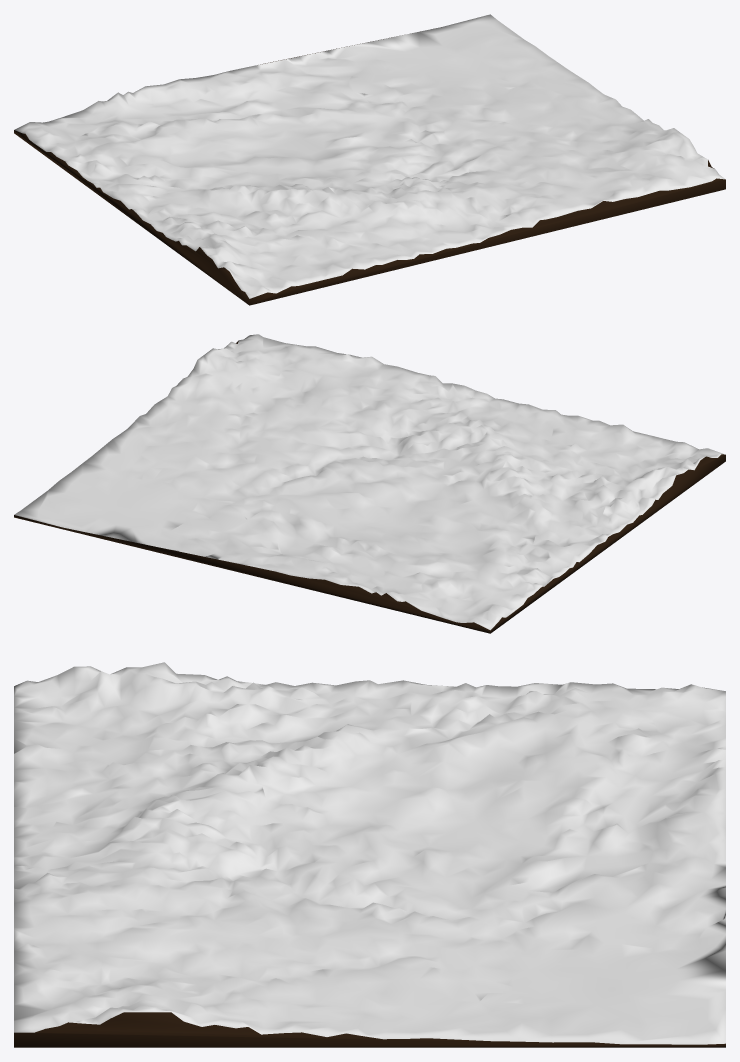
Rendered from Thuringen.fbx.
3 renders of one model, top to bottom at view 1: azimuth 30°, elevation 25°; view 2: azimuth 150°, elevation 25°; view 3: azimuth 270°, elevation 25°, orthographic. The views are drawn at different scales.
Visible parts, largest first — view 1: Map; view 2: Map; view 3: Map.
Boxes of the visible parts, x1,y1,x2,y2 form: Map: [14, 14, 725, 305]; Map: [14, 334, 725, 633]; Map: [14, 662, 725, 1047].
Bounding box in the file's own units: 300 × 14.39 × 257.
